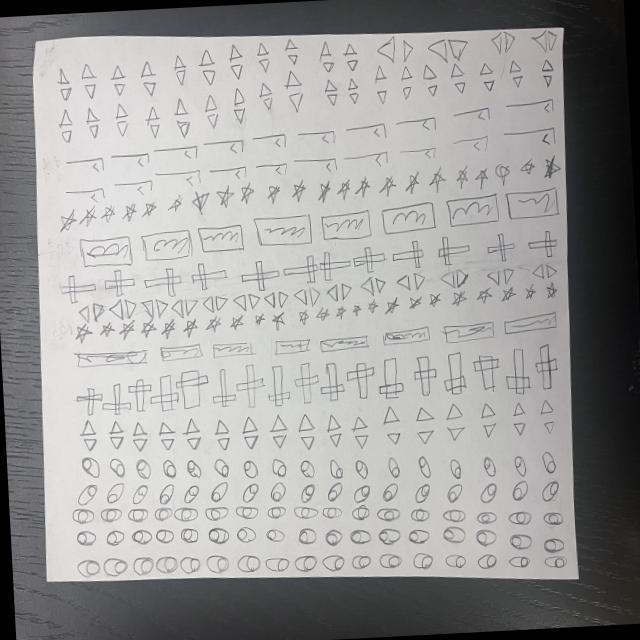Button: (56, 204, 80, 235), (402, 169, 426, 194), (118, 200, 139, 227), (377, 173, 398, 200), (493, 157, 512, 185), (216, 183, 236, 209), (264, 182, 286, 205), (78, 204, 98, 229), (352, 173, 372, 198), (428, 166, 447, 192), (164, 192, 186, 213), (517, 157, 539, 178), (447, 288, 470, 308), (236, 180, 256, 203), (336, 175, 352, 203), (454, 162, 471, 188), (381, 295, 402, 316), (496, 284, 518, 304), (190, 191, 209, 214), (544, 154, 562, 178), (226, 314, 247, 334), (158, 317, 178, 338), (74, 323, 95, 343), (99, 202, 117, 225), (118, 320, 138, 340), (473, 287, 494, 305), (138, 320, 159, 338), (314, 181, 332, 202), (292, 178, 307, 203), (96, 321, 118, 338), (206, 314, 224, 334), (292, 308, 311, 326), (182, 318, 200, 337), (140, 200, 158, 218), (270, 310, 287, 329), (314, 305, 332, 322), (522, 282, 538, 300), (476, 165, 488, 188), (252, 311, 268, 328), (426, 291, 443, 306), (544, 282, 558, 300), (348, 301, 362, 316), (408, 296, 422, 310), (334, 304, 346, 320), (367, 298, 378, 313)
Command: (502, 122, 560, 150), (502, 94, 560, 121), (394, 112, 438, 138), (156, 167, 204, 190), (342, 119, 390, 141), (64, 157, 109, 180), (296, 127, 338, 151), (452, 132, 488, 160), (154, 143, 202, 163), (204, 136, 247, 158), (293, 157, 338, 178), (112, 176, 154, 198), (250, 130, 288, 154), (454, 105, 492, 127), (343, 151, 389, 169), (394, 142, 440, 160), (65, 185, 106, 205), (208, 164, 247, 182), (118, 150, 152, 170), (256, 158, 288, 179)
IncDec: (297, 409, 322, 454), (444, 401, 468, 442), (348, 414, 374, 451), (414, 405, 438, 444), (383, 404, 403, 450), (266, 413, 292, 448), (182, 419, 204, 455), (79, 416, 101, 451), (201, 290, 230, 316), (394, 270, 428, 292), (76, 299, 107, 323), (510, 399, 529, 438), (240, 416, 262, 449), (132, 418, 151, 456), (214, 416, 234, 452), (170, 293, 200, 317), (230, 291, 262, 313), (324, 414, 344, 449), (108, 418, 128, 452), (158, 418, 178, 452), (479, 401, 496, 440), (108, 296, 136, 319), (140, 296, 168, 319), (294, 284, 322, 307), (440, 268, 469, 290), (326, 280, 352, 303), (540, 397, 556, 434), (264, 288, 288, 312), (359, 274, 386, 295), (488, 264, 516, 282), (530, 262, 558, 279)
Slider: (177, 366, 210, 412), (532, 340, 560, 392), (235, 359, 265, 406), (503, 348, 532, 392), (376, 356, 404, 399), (144, 266, 182, 297), (410, 354, 438, 396), (292, 360, 318, 405), (58, 272, 97, 302), (346, 359, 374, 400), (240, 260, 278, 290), (210, 366, 236, 408), (320, 362, 346, 404), (191, 262, 230, 290), (435, 235, 470, 266), (149, 375, 176, 413), (100, 381, 130, 414), (319, 249, 350, 280), (445, 350, 465, 398), (284, 254, 316, 284), (75, 384, 104, 416), (474, 353, 499, 390), (266, 364, 288, 406), (126, 378, 154, 410), (392, 240, 424, 268), (487, 230, 516, 260), (528, 230, 558, 258), (104, 270, 136, 296), (352, 246, 385, 270)
Text: (251, 212, 317, 248), (444, 188, 500, 228), (505, 183, 564, 220), (140, 226, 196, 264), (382, 199, 438, 236), (80, 234, 136, 268), (74, 348, 156, 371), (197, 220, 246, 258), (321, 208, 375, 242), (501, 308, 559, 337), (440, 317, 497, 346), (381, 324, 434, 349), (318, 332, 372, 356), (209, 338, 257, 362), (157, 342, 205, 364), (270, 336, 317, 357)
Toggle: (426, 33, 471, 63), (372, 34, 414, 62), (192, 48, 220, 89), (284, 66, 304, 115), (172, 96, 194, 140), (527, 28, 560, 56), (250, 38, 274, 76), (54, 63, 76, 103), (255, 80, 277, 120), (136, 62, 160, 98), (224, 41, 244, 84), (421, 61, 440, 106), (56, 106, 76, 147), (83, 102, 103, 142), (69, 457, 104, 479), (78, 64, 100, 99), (478, 56, 498, 94), (202, 94, 222, 131), (488, 28, 516, 54), (372, 65, 390, 104), (75, 555, 104, 579), (142, 106, 163, 139), (232, 88, 250, 126), (398, 64, 416, 102), (108, 62, 128, 96), (169, 52, 189, 86), (448, 62, 468, 96), (538, 57, 558, 91), (442, 478, 468, 504), (102, 554, 130, 578), (288, 502, 318, 524), (106, 453, 130, 480), (153, 482, 180, 506), (202, 526, 231, 548), (320, 526, 349, 548), (76, 482, 102, 506), (104, 478, 126, 506), (176, 553, 202, 576), (319, 552, 346, 574), (341, 42, 360, 73), (267, 480, 288, 508), (511, 478, 532, 506), (236, 553, 262, 575), (316, 41, 334, 72), (207, 552, 230, 576), (412, 548, 435, 572), (321, 78, 340, 107), (377, 526, 402, 548), (74, 527, 100, 548), (442, 524, 468, 545), (508, 58, 526, 88), (539, 448, 558, 476), (132, 555, 155, 578), (154, 526, 176, 550), (156, 552, 178, 576), (205, 504, 231, 524), (441, 504, 468, 523), (115, 104, 131, 136), (208, 480, 231, 502), (237, 481, 260, 503), (352, 482, 374, 505), (183, 458, 204, 482), (262, 554, 290, 572), (416, 450, 434, 478), (478, 482, 499, 506), (506, 552, 530, 573), (129, 526, 154, 546), (542, 479, 562, 504), (282, 39, 302, 64), (173, 506, 200, 524), (210, 454, 232, 476), (350, 526, 372, 548), (239, 458, 262, 479), (480, 454, 500, 478), (376, 505, 401, 524), (508, 531, 533, 550), (376, 552, 402, 570), (507, 508, 533, 526), (128, 483, 150, 504), (296, 551, 318, 572), (412, 480, 433, 502), (106, 527, 126, 550), (322, 482, 346, 501), (378, 484, 402, 503), (354, 457, 372, 482), (406, 526, 431, 544), (70, 508, 98, 524), (179, 526, 200, 547), (475, 527, 497, 547), (476, 551, 498, 571), (351, 552, 374, 571), (409, 505, 433, 523), (384, 455, 401, 480), (474, 509, 499, 526), (134, 458, 154, 479), (270, 458, 290, 479), (265, 502, 286, 522), (346, 76, 360, 106), (513, 452, 529, 478), (126, 507, 150, 524), (298, 482, 318, 502), (446, 458, 466, 478), (542, 554, 567, 570), (328, 458, 347, 479), (543, 509, 564, 528), (100, 506, 126, 521), (235, 505, 259, 521), (444, 552, 468, 568), (160, 460, 179, 480), (182, 483, 200, 504), (153, 505, 174, 522), (265, 527, 286, 544), (235, 526, 257, 542), (543, 536, 565, 552), (300, 458, 316, 479), (298, 528, 317, 545), (351, 505, 372, 520), (322, 504, 342, 518)
